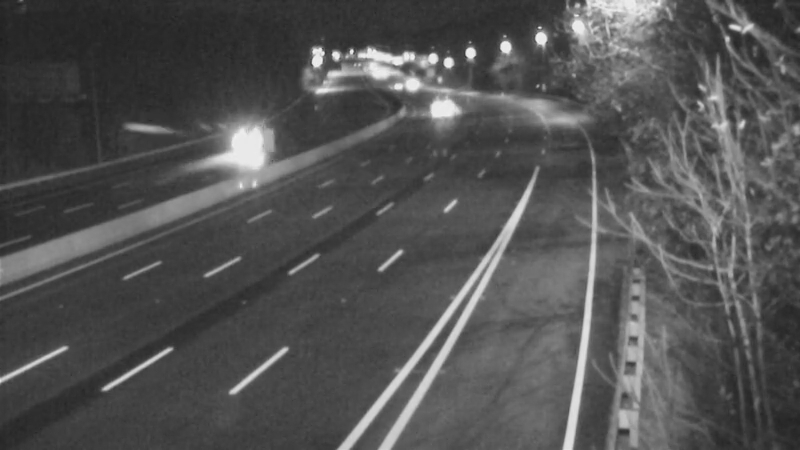vehicle: (387, 61, 437, 111), (370, 61, 420, 111), (424, 83, 474, 133), (208, 118, 258, 168)
